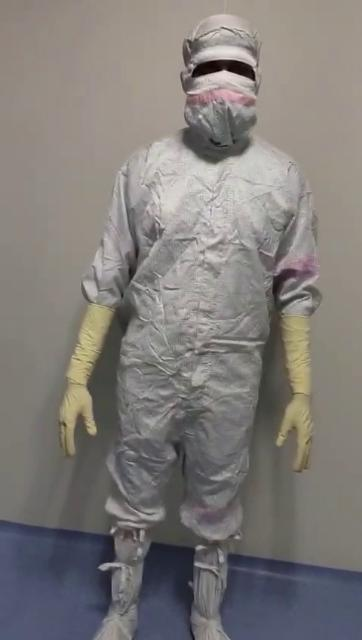gloves_fitted_securely: (258, 292, 330, 476), (58, 287, 120, 468)
headgear_secured: (175, 12, 268, 156)
zip_secured: (185, 148, 231, 426)
